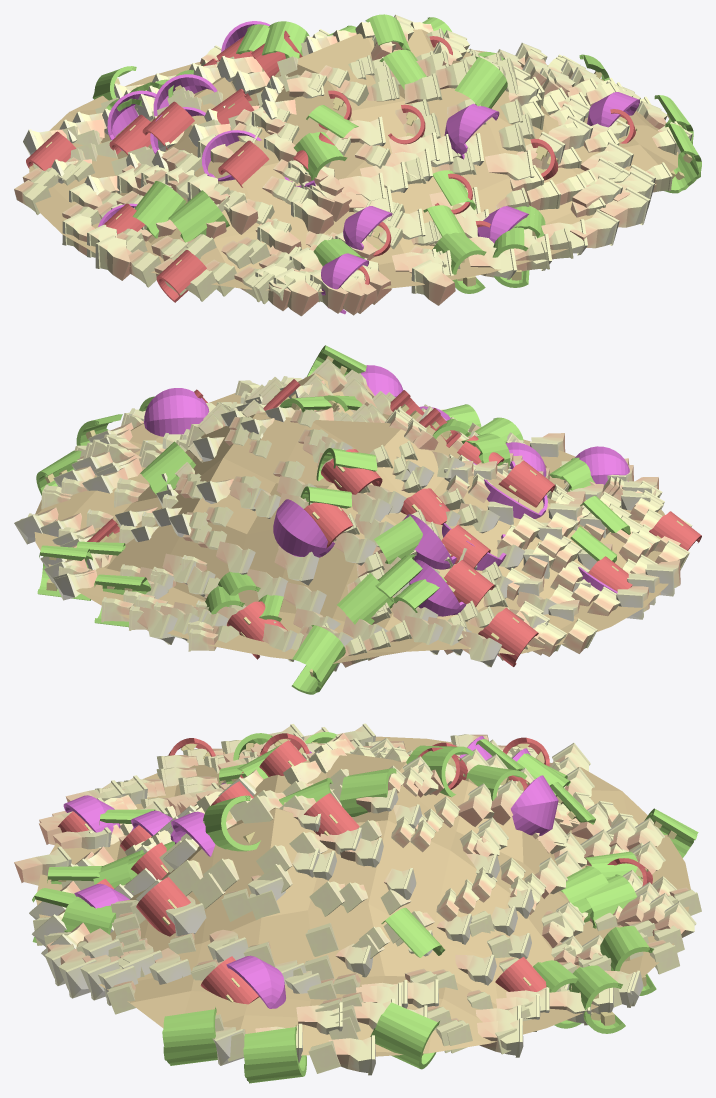
File: raw sisig.fbx
The picture shows the model from 3 angles, top to bottom: view 1: azimuth 30°, elevation 25°; view 2: azimuth 150°, elevation 25°; view 3: azimuth 270°, elevation 25°; orthographic projection. The views are drawn at different scales.
Visible parts, largest first — view 1: plate surface, plate surface|bell pepper 2|Dupli|22.4, plate surface|bell pepper 2|Dupli|38.4, plate surface|bell pepper 2|Dupli|21.4, plate surface|onion|Dupli|11.3, plate surface|bell pepper 2|Dupli|43.4, plate surface|bell pepper 2|Dupli|20.4, plate surface|bell pepper 1|Dupli|3.2, plate surface|sisig 2|Dupli|155.1, plate surface|sisig 2|Dupli|8.1, plate surface|bell pepper 1|Dupli|5.2, plate surface|bell pepper 1|Dupli|7.2 (+95 smaller); view 2: plate surface, plate surface|onion|Dupli|6.3, plate surface|bell pepper 2|Dupli|35.4, plate surface|onion|Dupli|7.3, plate surface|bell pepper 1|Dupli|15.2, plate surface|bell pepper 2|Dupli|30.4, plate surface|bell pepper 1|Dupli|7.2, plate surface|bell pepper 2|Dupli|23.4, plate surface|bell pepper 2|Dupli|27.4, plate surface|bell pepper 1|Dupli|14.2, plate surface|onion|Dupli|9.3, plate surface|onion|Dupli|13.3 (+65 smaller); view 3: plate surface, plate surface|bell pepper 2|Dupli|19.4, plate surface|bell pepper 2|Dupli|25.4, plate surface|bell pepper 2|Dupli|20.4, plate surface|onion|Dupli|7.3, plate surface|bell pepper 2|Dupli|15.4, plate surface|onion|Dupli|6.3, plate surface|bell pepper 1|Dupli|19.2, plate surface|bell pepper 2|Dupli|34.4, plate surface|bell pepper 2|Dupli|17.4, plate surface|bell pepper 2|Dupli|22.4, plate surface|bell pepper 1|Dupli|11.2 (+78 smaller).
Part boxes in pixels (left/top/right/bottom): plate surface: left=29, top=29, right=678, bottom=291; plate surface|bell pepper 2|Dupli|22.4: left=455, top=56, right=507, bottom=108; plate surface|bell pepper 2|Dupli|38.4: left=168, top=190, right=229, bottom=242; plate surface|bell pepper 2|Dupli|21.4: left=132, top=181, right=186, bottom=238; plate surface|onion|Dupli|11.3: left=444, top=103, right=499, bottom=159; plate surface|bell pepper 2|Dupli|43.4: left=432, top=232, right=486, bottom=293; plate surface|bell pepper 2|Dupli|20.4: left=664, top=123, right=701, bottom=193; plate surface|bell pepper 1|Dupli|3.2: left=156, top=250, right=206, bottom=302; plate surface|sisig 2|Dupli|155.1: left=411, top=260, right=455, bottom=305; plate surface|sisig 2|Dupli|8.1: left=95, top=235, right=131, bottom=280; plate surface|bell pepper 1|Dupli|5.2: left=142, top=101, right=194, bottom=149; plate surface|bell pepper 1|Dupli|7.2: left=218, top=140, right=269, bottom=187; plate surface: left=34, top=373, right=668, bottom=663; plate surface|onion|Dupli|6.3: left=144, top=388, right=209, bottom=436; plate surface|bell pepper 2|Dupli|35.4: left=291, top=625, right=345, bottom=694; plate surface|onion|Dupli|7.3: left=273, top=499, right=334, bottom=557; plate surface|bell pepper 1|Dupli|15.2: left=478, top=607, right=538, bottom=666; plate surface|bell pepper 2|Dupli|30.4: left=337, top=571, right=394, bottom=624; plate surface|bell pepper 1|Dupli|7.2: left=498, top=460, right=555, bottom=507; plate surface|bell pepper 2|Dupli|23.4: left=140, top=441, right=195, bottom=494; plate surface|bell pepper 2|Dupli|27.4: left=374, top=514, right=422, bottom=564; plate surface|bell pepper 1|Dupli|14.2: left=444, top=560, right=494, bottom=606; plate surface|onion|Dupli|9.3: left=409, top=559, right=466, bottom=616; plate surface|onion|Dupli|13.3: left=575, top=446, right=629, bottom=484; plate surface: left=36, top=736, right=690, bottom=1056; plate surface|bell pepper 2|Dupli|19.4: left=243, top=1025, right=306, bottom=1083; plate surface|bell pepper 2|Dupli|25.4: left=370, top=1002, right=439, bottom=1069; plate surface|bell pepper 2|Dupli|20.4: left=162, top=1007, right=217, bottom=1065; plate surface|onion|Dupli|7.3: left=511, top=775, right=558, bottom=835; plate surface|bell pepper 2|Dupli|15.4: left=568, top=965, right=625, bottom=1033; plate surface|onion|Dupli|6.3: left=226, top=955, right=285, bottom=1008; plate surface|bell pepper 1|Dupli|19.2: left=136, top=877, right=190, bottom=936; plate surface|bell pepper 2|Dupli|34.4: left=600, top=926, right=656, bottom=995; plate surface|bell pepper 2|Dupli|17.4: left=339, top=768, right=396, bottom=816; plate surface|bell pepper 2|Dupli|22.4: left=203, top=795, right=260, bottom=851; plate surface|bell pepper 1|Dupli|11.2: left=200, top=956, right=259, bottom=1004.
Size of the model in its own units: 101 by 26.65 by 89.52.
10 materials, 2 textured.
